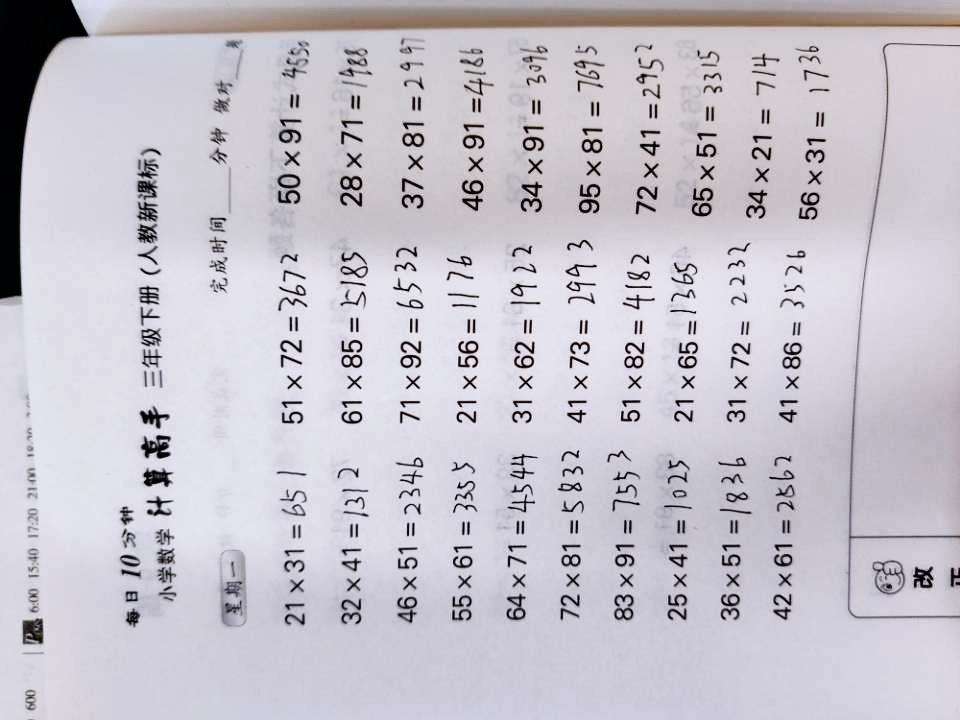equation: (777, 40, 858, 234), (440, 30, 508, 231), (379, 26, 444, 221), (618, 30, 679, 233), (379, 232, 439, 432), (772, 240, 831, 443), (753, 444, 814, 638), (558, 31, 618, 228), (548, 236, 609, 429), (653, 247, 714, 440), (737, 40, 796, 232), (435, 243, 493, 434), (589, 431, 643, 634), (327, 239, 383, 434), (383, 438, 438, 635), (427, 443, 484, 632), (263, 37, 322, 219), (701, 439, 755, 629), (267, 450, 322, 636), (650, 445, 701, 641), (685, 34, 735, 232), (319, 452, 372, 638), (544, 435, 594, 631), (327, 34, 380, 213), (267, 248, 317, 437), (611, 229, 657, 433), (721, 213, 762, 435), (492, 438, 538, 635), (515, 25, 558, 233), (498, 236, 545, 426)
